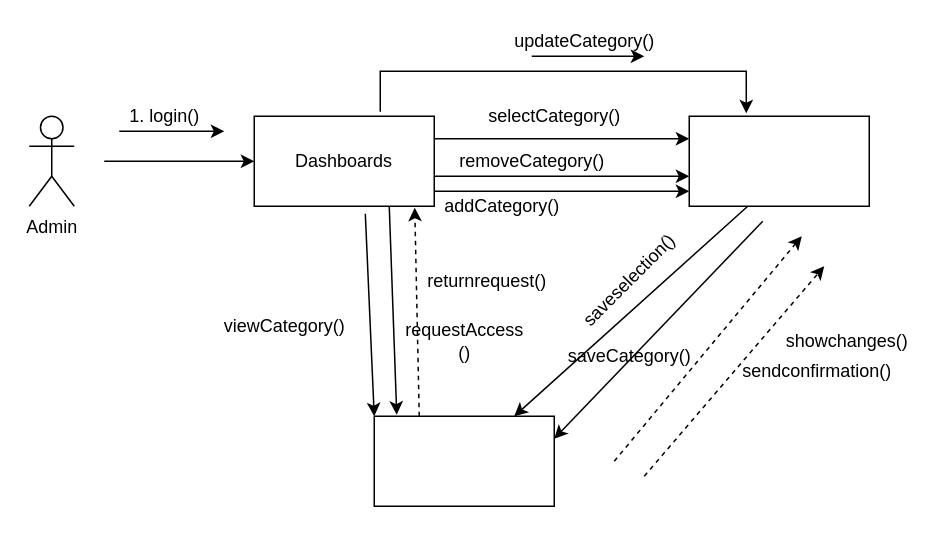
Some shapes in this 947 by 533 pixel diagram are drawn without their labels. Each missing label, with the box of its shape:
Category: (688, 115, 869, 206)
Database: (373, 415, 554, 506)
